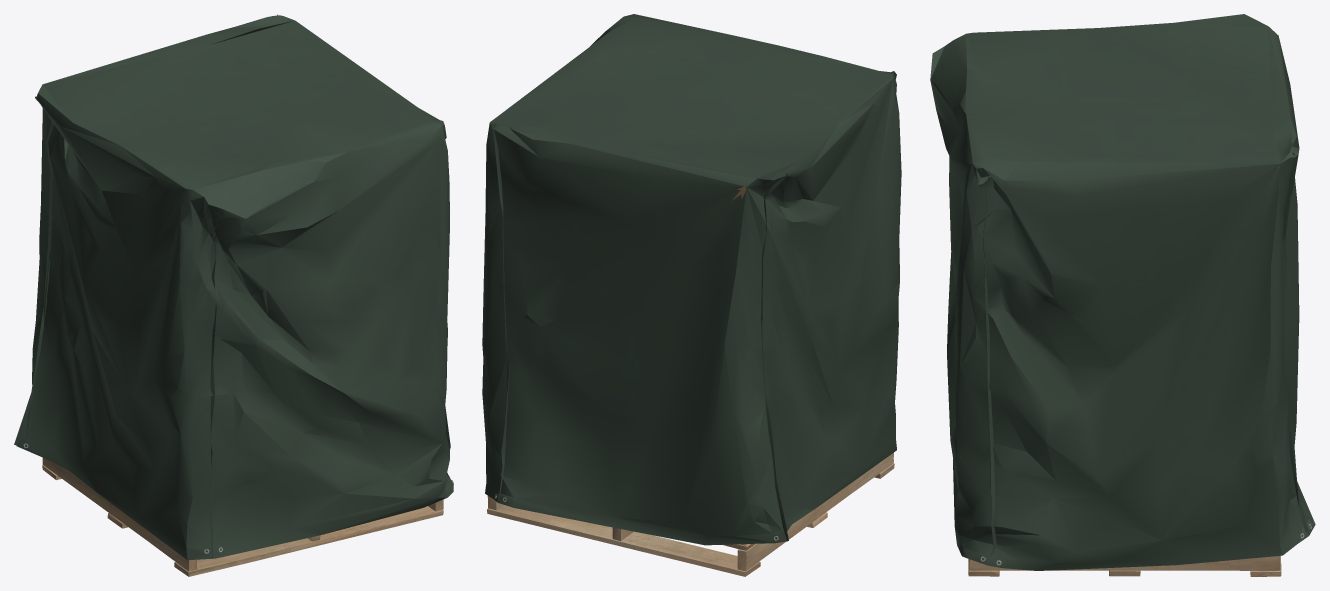
The model's file is pallet_load_b02.glb.
3 renders of one model, left to right at view 1: azimuth 30°, elevation 25°; view 2: azimuth 150°, elevation 25°; view 3: azimuth 270°, elevation 25°, orthographic. The views are drawn at different scales.
Visible parts, largest first — view 1: root; view 2: root; view 3: root.
Part boxes in pixels (x1,y1,x2,y2): root: (14, 14, 453, 576); root: (482, 14, 901, 576); root: (930, 14, 1315, 576).
Bounding box in the file's own units: 1.11 × 1.33 × 1.11.
5 materials, 5 textured.
